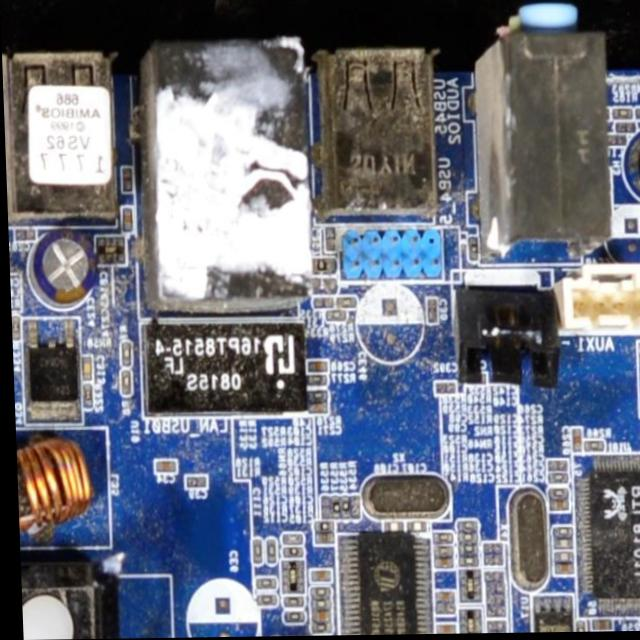capacitor: (305, 572, 327, 586), (429, 590, 450, 604), (551, 563, 571, 577), (151, 461, 172, 474), (120, 208, 131, 232), (80, 356, 90, 382), (402, 522, 423, 534), (546, 500, 565, 512), (307, 611, 327, 622), (305, 404, 325, 415), (569, 430, 578, 454), (588, 621, 607, 632), (305, 362, 324, 373), (549, 541, 569, 551), (378, 523, 400, 532), (430, 558, 449, 568), (549, 553, 568, 563), (429, 628, 451, 635)
resistor: (277, 546, 301, 561), (277, 595, 300, 610), (278, 611, 302, 625), (451, 521, 475, 534), (453, 556, 475, 569), (262, 539, 273, 565), (453, 542, 475, 555), (250, 579, 273, 591), (317, 496, 328, 521), (581, 442, 601, 455), (119, 371, 129, 397), (251, 595, 272, 607), (80, 384, 90, 409), (118, 342, 128, 366), (328, 495, 337, 521), (248, 539, 257, 564), (306, 588, 326, 599), (9, 316, 19, 338), (337, 497, 346, 521), (546, 488, 564, 500), (454, 534, 475, 544), (307, 623, 326, 634), (307, 600, 326, 611), (430, 547, 449, 558), (306, 391, 325, 402), (324, 311, 343, 322), (334, 299, 353, 309), (429, 535, 450, 544), (550, 529, 569, 538), (306, 377, 324, 386), (571, 625, 580, 634)
transistor: (17, 319, 80, 422)
